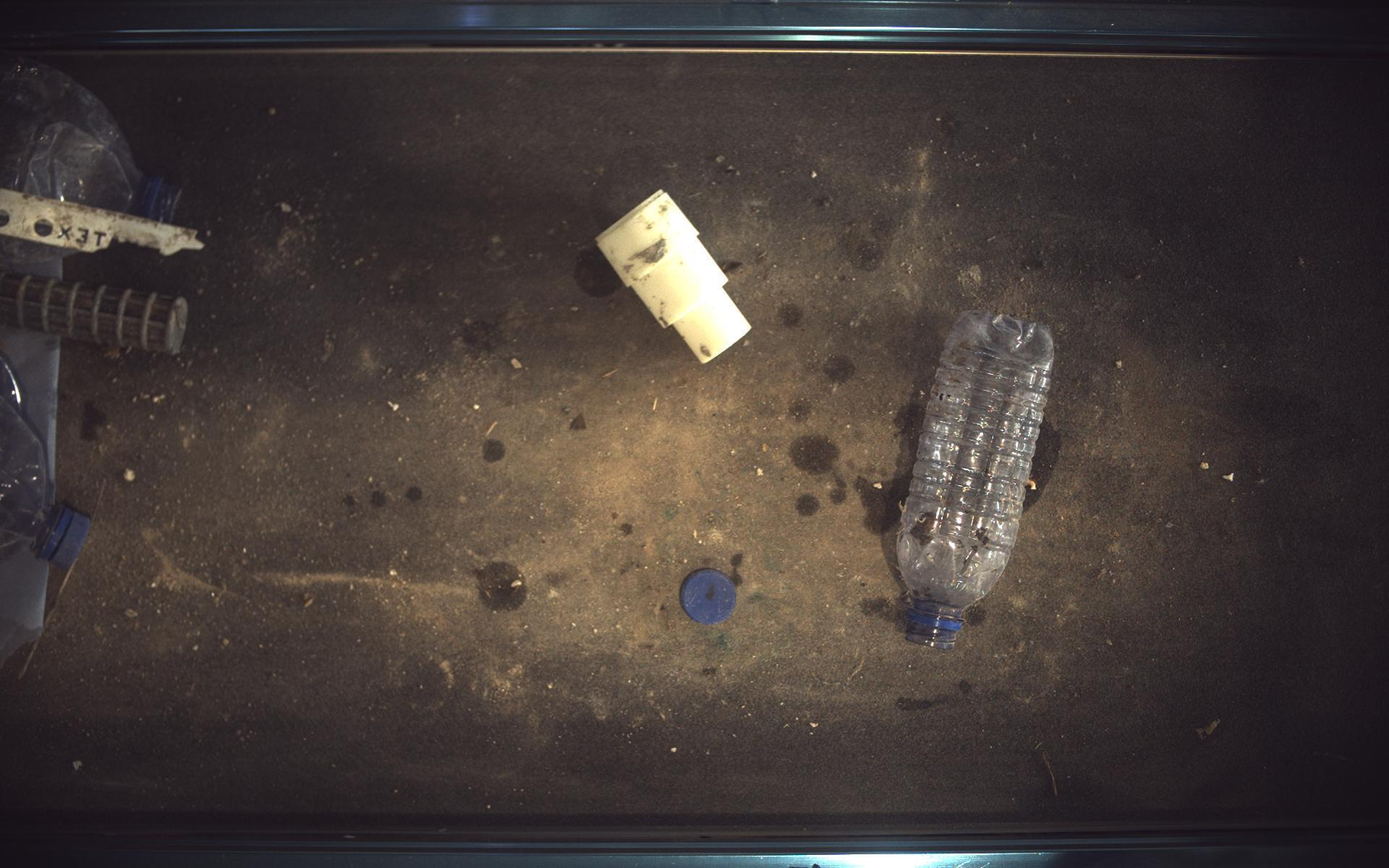general_w: (899, 310, 1056, 650), (1, 57, 142, 211), (1, 353, 89, 569), (681, 569, 737, 626), (1, 237, 61, 276)
plastic: (597, 189, 752, 362), (1, 272, 187, 354), (1, 188, 203, 255)
